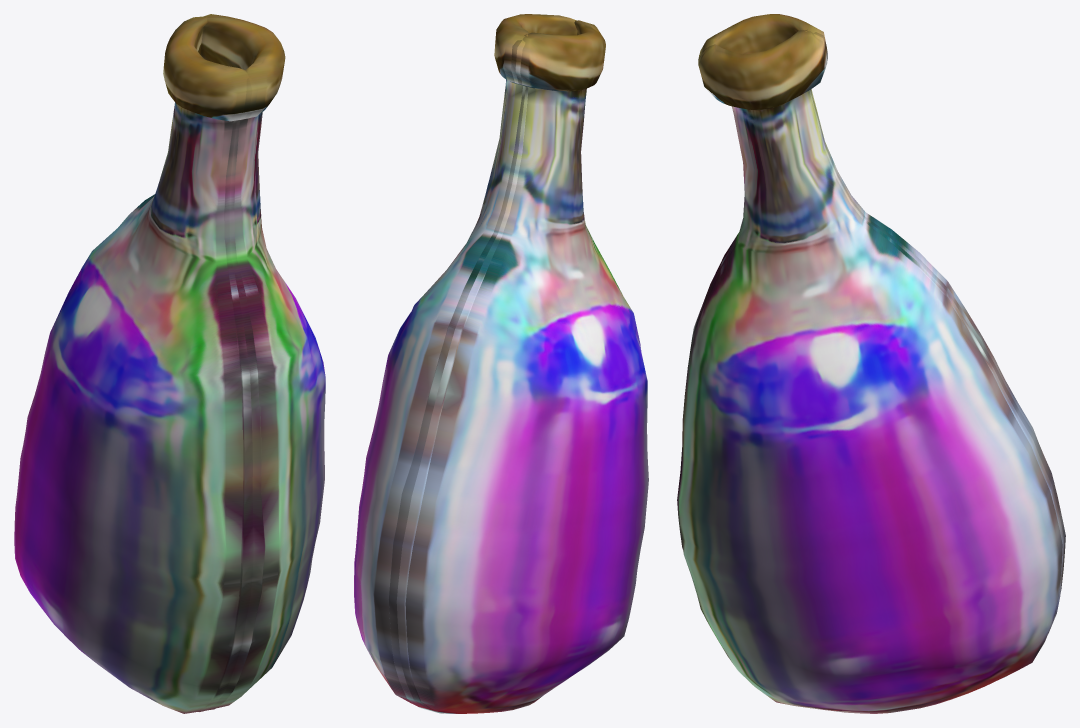
Rendered from bottlettest.gltf.
The picture shows the model from 3 angles, left to right: view 1: azimuth 30°, elevation 25°; view 2: azimuth 150°, elevation 25°; view 3: azimuth 270°, elevation 25°; orthographic projection. The views are drawn at different scales.
Visible parts, largest first — view 1: Cube; view 2: Cube; view 3: Cube.
Part boxes in pixels (<box>): Cube: <box>14,14,325,713</box>; Cube: <box>354,14,648,713</box>; Cube: <box>677,14,1065,713</box>.
Bounding box in the file's own units: 3.7 × 9.79 × 5.08.
Materials: 2 (2 with a texture image).
